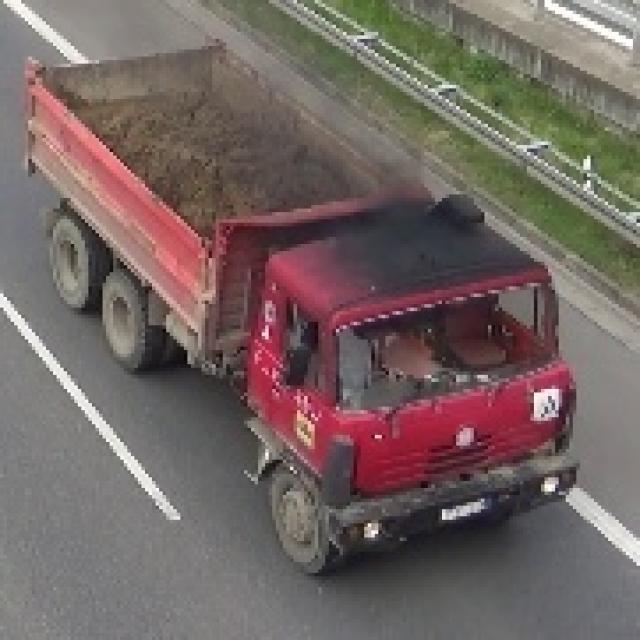truck: (18, 36, 576, 576)
